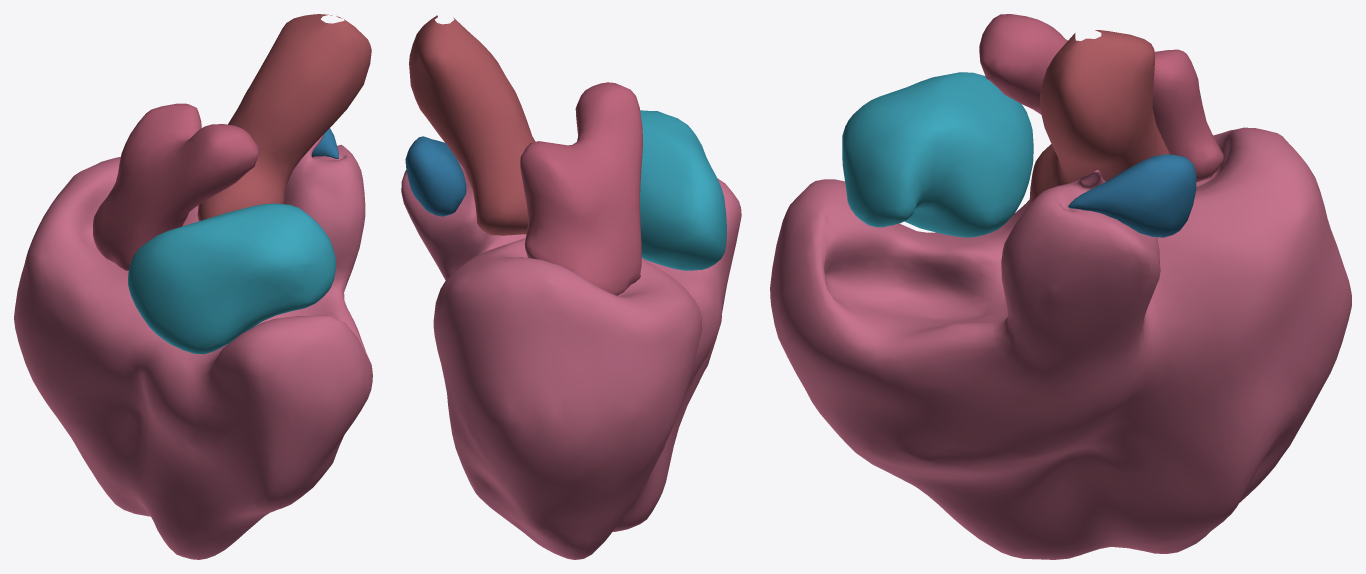
The model's file is frame_54.glb.
The picture shows the model from 3 angles, left to right: view 1: azimuth 30°, elevation 25°; view 2: azimuth 150°, elevation 25°; view 3: azimuth 270°, elevation 25°; orthographic projection. The views are drawn at different scales.
Visible parts, largest first — view 1: Renderer Node; view 2: Renderer Node; view 3: Renderer Node.
Boxes of the visible parts, left/top/right/bottom form: Renderer Node: left=14, top=14, right=372, bottom=559; Renderer Node: left=401, top=15, right=741, bottom=559; Renderer Node: left=770, top=14, right=1351, bottom=559.
Bounding box in the file's own units: 102 × 158 × 134.
